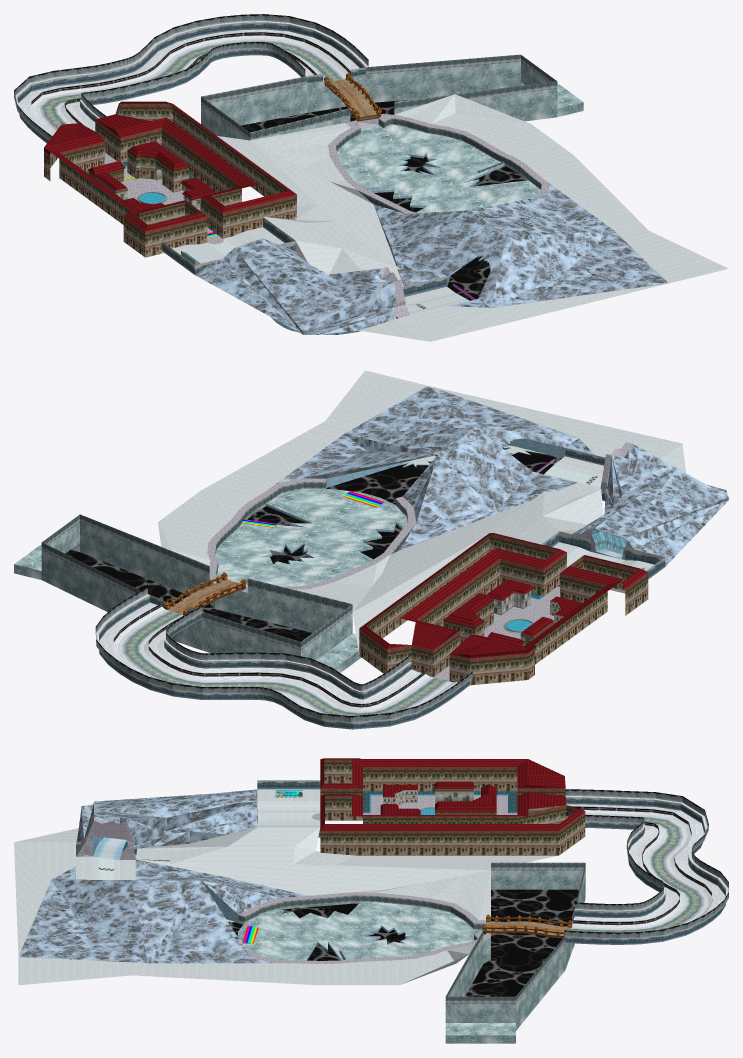
3 views of the same model, one above another, from view 1: azimuth 30°, elevation 25°; view 2: azimuth 150°, elevation 25°; view 3: azimuth 270°, elevation 25° (orthographic). The views are drawn at different scales.
Visible parts, largest first — view 1: 1-SKP--Mountain_Wall, 1-SKP--Snow_Offroad, 1-SKP--Ice, 1-SKP--House, 1-SKP--Roof, 1-SKP--Rock_Wall, 1-SKP--Forest_Snow, 1-SKP--Trees, 1-SKP--Ice_Rock_Wall, 1-SKP--Snowy_Rock, 1-SKP--Forest_Road, 1-SKP--Icy_Water (+8 smaller); view 2: 1-SKP--Mountain_Wall, 1-SKP--Ice, 1-SKP--Snow_Offroad, 1-SKP--House, 1-SKP--Roof, 1-SKP--Forest_Snow, 1-SKP--Rock_Wall, 1-SKP--Trees, 1-SKP--Ice_Rock_Wall, 1-SKP--Snowy_Rock, 1-SKP--Icy_Water, 1-SKP--Forest_Road (+8 smaller); view 3: 1-SKP--Snow_Offroad, 1-SKP--Mountain_Wall, 1-SKP--Ice, 1-SKP--House, 1-SKP--Roof, 1-SKP--Icy_Water, 1-SKP--Forest_Snow, 1-SKP--Snowy_Rock, 1-SKP--Trees, 1-SKP--Rock_Wall, 1-SKP--Ice_Rock_Wall, 1-SKP--Forest_Road (+9 smaller).
Part boxes in pixels (left/top/right/bottom): 1-SKP--Mountain_Wall: left=195, top=183, right=668, bottom=334; 1-SKP--Snow_Offroad: left=187, top=94, right=728, bottom=341; 1-SKP--Ice: left=201, top=62, right=583, bottom=212; 1-SKP--House: left=44, top=103, right=296, bottom=257; 1-SKP--Roof: left=44, top=101, right=296, bottom=231; 1-SKP--Rock_Wall: left=201, top=54, right=557, bottom=213; 1-SKP--Forest_Snow: left=15, top=21, right=368, bottom=135; 1-SKP--Trees: left=14, top=14, right=368, bottom=140; 1-SKP--Ice_Rock_Wall: left=17, top=22, right=365, bottom=143; 1-SKP--Snowy_Rock: left=105, top=114, right=549, bottom=318; 1-SKP--Forest_Road: left=39, top=40, right=344, bottom=130; 1-SKP--Icy_Water: left=241, top=99, right=525, bottom=212; 1-SKP--Mountain_Wall: left=276, top=386, right=728, bottom=566; 1-SKP--Ice: left=14, top=455, right=434, bottom=672; 1-SKP--Snow_Offroad: left=158, top=370, right=686, bottom=654; 1-SKP--House: left=359, top=534, right=648, bottom=685; 1-SKP--Roof: left=359, top=533, right=647, bottom=658; 1-SKP--Forest_Snow: left=96, top=594, right=457, bottom=712; 1-SKP--Rock_Wall: left=41, top=479, right=415, bottom=649; 1-SKP--Trees: left=95, top=587, right=472, bottom=723; 1-SKP--Ice_Rock_Wall: left=99, top=595, right=469, bottom=729; 1-SKP--Snowy_Rock: left=207, top=442, right=634, bottom=680; 1-SKP--Icy_Water: left=65, top=506, right=401, bottom=641; 1-SKP--Forest_Road: left=122, top=610, right=448, bottom=715; 1-SKP--Snow_Offroad: left=14, top=801, right=557, bottom=985; 1-SKP--Mountain_Wall: left=18, top=789, right=308, bottom=963; 1-SKP--Ice: left=237, top=870, right=585, bottom=1043; 1-SKP--House: left=320, top=759, right=585, bottom=855; 1-SKP--Roof: left=320, top=758, right=584, bottom=830; 1-SKP--Icy_Water: left=282, top=889, right=578, bottom=996; 1-SKP--Forest_Snow: left=565, top=796, right=728, bottom=929; 1-SKP--Snowy_Rock: left=76, top=791, right=517, bottom=963; 1-SKP--Trees: left=564, top=789, right=728, bottom=938; 1-SKP--Rock_Wall: left=238, top=862, right=585, bottom=1003; 1-SKP--Ice_Rock_Wall: left=565, top=797, right=725, bottom=944; 1-SKP--Forest_Road: left=570, top=814, right=704, bottom=932.
Bounding box in the file's own units: 86697 × 9712 × 110744.
40 materials, 39 textured.
